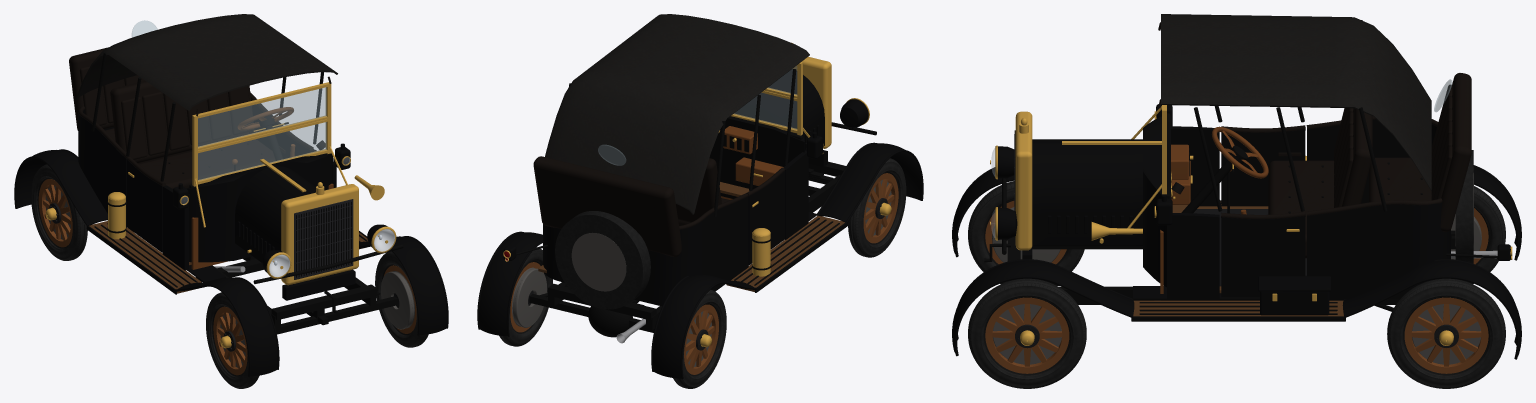
Rendered from runabout_t.glb.
3 views of the same model, side by side, from view 1: azimuth 30°, elevation 25°; view 2: azimuth 150°, elevation 25°; view 3: azimuth 270°, elevation 25° (orthographic). The views are drawn at different scales.
Visible parts, largest first — view 1: runabout_t, top, windscreen_upper, hood_R, wheel_RR, wheel_FR, wheel_FL, door_R, seat_rear, steering_wheel, door_L, hood_L; view 2: runabout_t, top, seat_rear, spare_wheel, wheel_FR, wheel_RR, wheel_RL, door_R, hood_R, dash_glovebox, windscreen_upper; view 3: runabout_t, top, hood_L, wheel_FL, wheel_RL, seat_rear, door_L, door_R, wheel_FR, wheel_RR, spare_wheel, steering_wheel (+1 smaller).
Boxes of the visible parts, box(x1,y1,x2,y2) form: runabout_t: box(14, 81, 448, 376); top: box(75, 14, 337, 181); windscreen_upper: box(198, 83, 327, 150); hood_R: box(235, 167, 307, 262); wheel_RR: box(31, 164, 87, 260); wheel_FR: box(206, 292, 259, 388); wheel_FL: box(375, 251, 428, 347); door_R: box(127, 156, 166, 252); seat_rear: box(69, 47, 192, 164); steering_wheel: box(237, 107, 293, 130); door_L: box(274, 121, 313, 158); hood_L: box(273, 165, 315, 194); runabout_t: box(477, 42, 923, 379); top: box(545, 14, 809, 216); seat_rear: box(533, 156, 681, 256); spare_wheel: box(555, 211, 650, 309); wheel_FR: box(848, 158, 906, 257); wheel_RR: box(673, 289, 726, 388); wheel_RL: box(499, 249, 552, 346); door_R: box(746, 167, 785, 265); hood_R: box(745, 69, 824, 151); dash_glovebox: box(735, 157, 783, 185); windscreen_upper: box(764, 65, 797, 98); runabout_t: box(952, 104, 1521, 359); top: box(1158, 14, 1452, 211); hood_L: box(1032, 143, 1146, 246); wheel_FL: box(968, 278, 1086, 388); wheel_RL: box(1387, 278, 1505, 388); seat_rear: box(1369, 73, 1471, 231); door_L: box(1221, 212, 1305, 297); door_R: box(1221, 125, 1305, 206); wheel_FR: box(968, 181, 1084, 283); wheel_RR: box(1451, 186, 1505, 283); spare_wheel: box(1455, 150, 1473, 263); steering_wheel: box(1212, 126, 1268, 178).
Bounding box in the file's own units: 1.67 × 1.95 × 3.45.
Materials: 36 (6 with a texture image).
